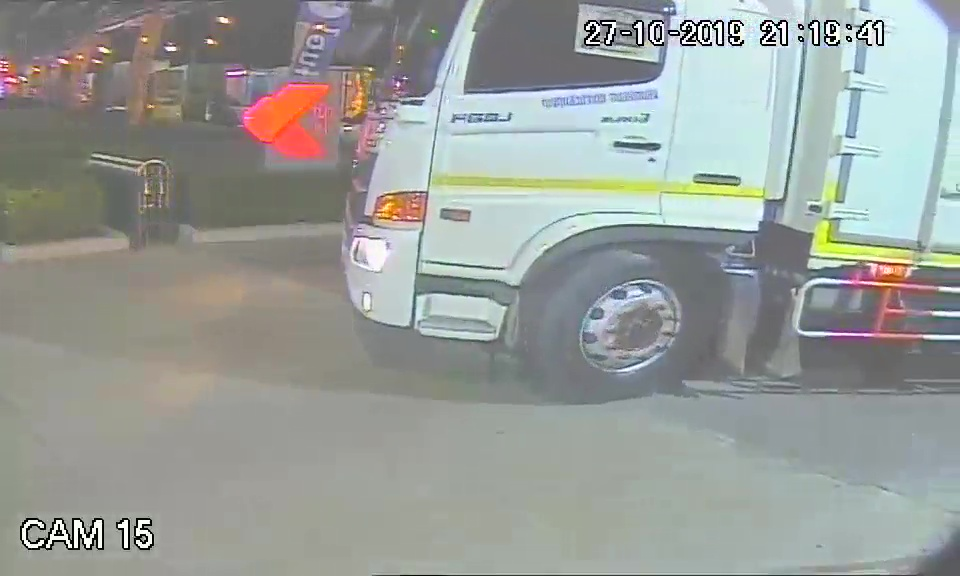truck: (339, 5, 783, 408)
